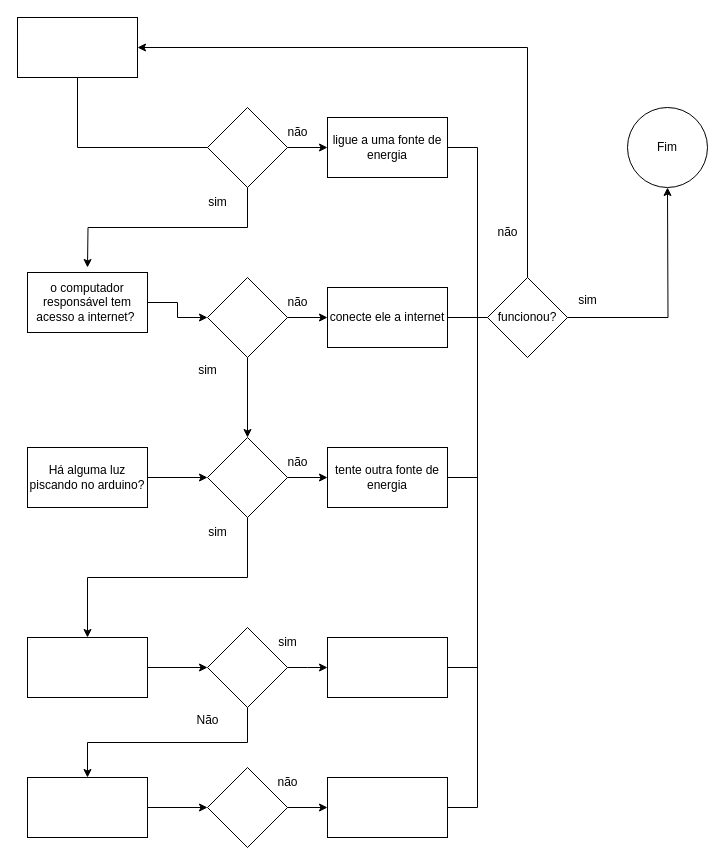
Image size: 725x865. Some labels were removed from this diagram. The box of each missing label's shape, as (x1, y1, x2, y2) in pixels:
arrume o codigo: (326, 776, 448, 838)
Efetue a troca do sensor: (326, 636, 448, 698)
O arduino está com uma fonte de energia ?: (16, 16, 138, 78)
O sensor está queimado?: (26, 636, 148, 698)
Os dados estão sendo plotados ?: (26, 776, 148, 838)
